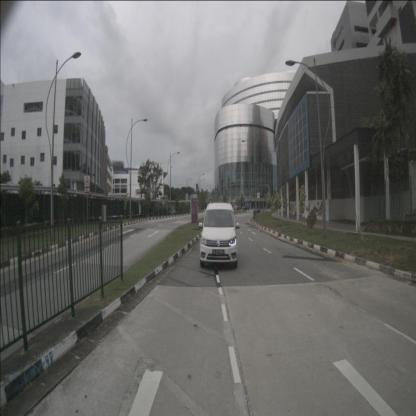vehicle-car: (199, 203, 237, 268)
